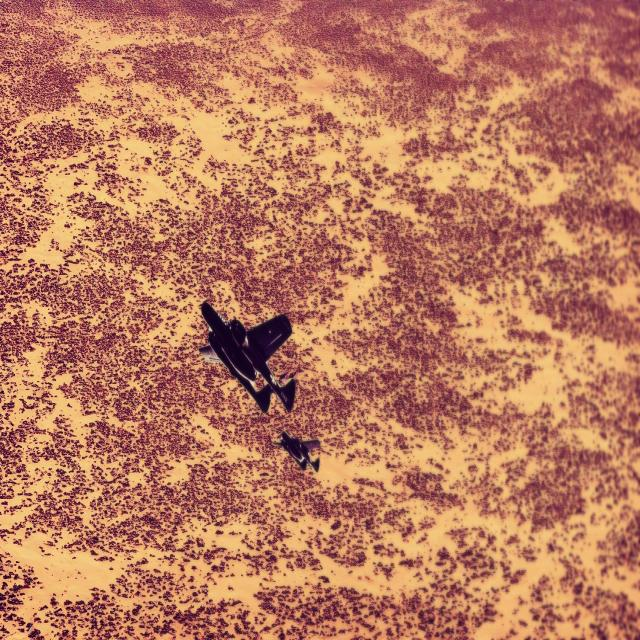airplane: (199, 300, 296, 414), (280, 430, 321, 473)
